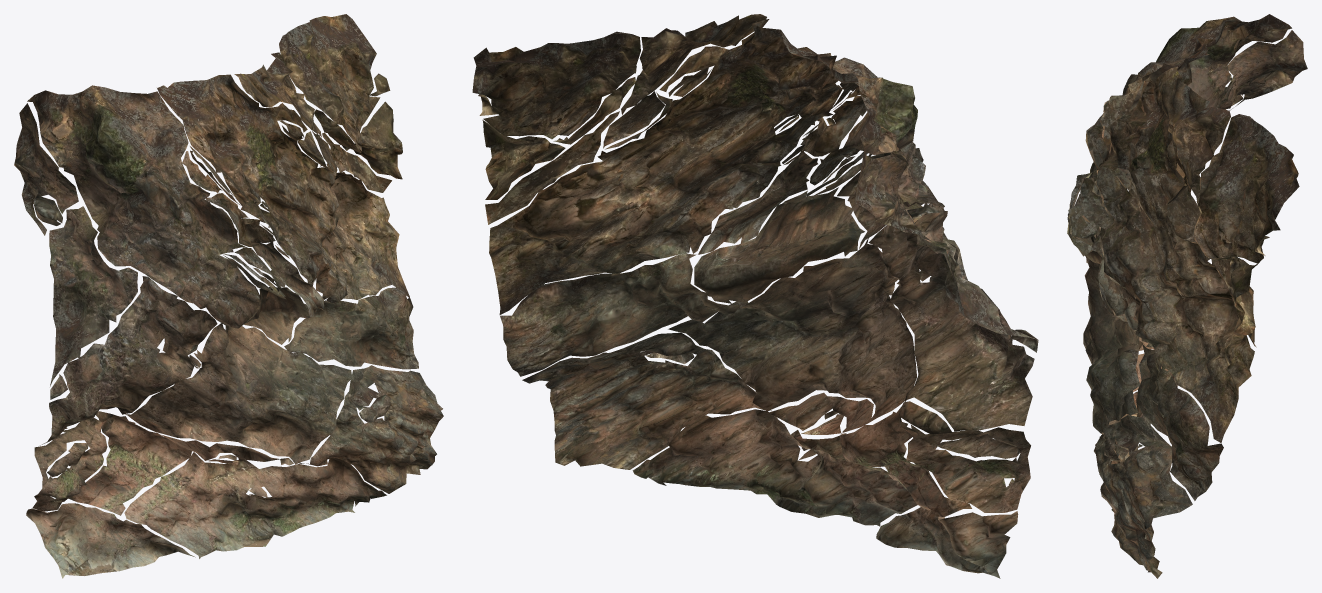
File: rock_face_a.glb
3 renders of one model, left to right at view 1: azimuth 30°, elevation 25°; view 2: azimuth 150°, elevation 25°; view 3: azimuth 270°, elevation 25°, orthographic. The views are drawn at different scales.
Parts seen in each view (by area): view 1: rock_face_a; view 2: rock_face_a; view 3: rock_face_a.
Boxes of the visible parts, x1=… form: rock_face_a: x1=14, y1=14, x2=443, y2=578; rock_face_a: x1=472, y1=14, x2=1038, y2=578; rock_face_a: x1=1067, y1=14, x2=1307, y2=578.
Bounding box in the file's own units: 10.15 × 10.51 × 5.22.
Materials: 1 (1 with a texture image).
